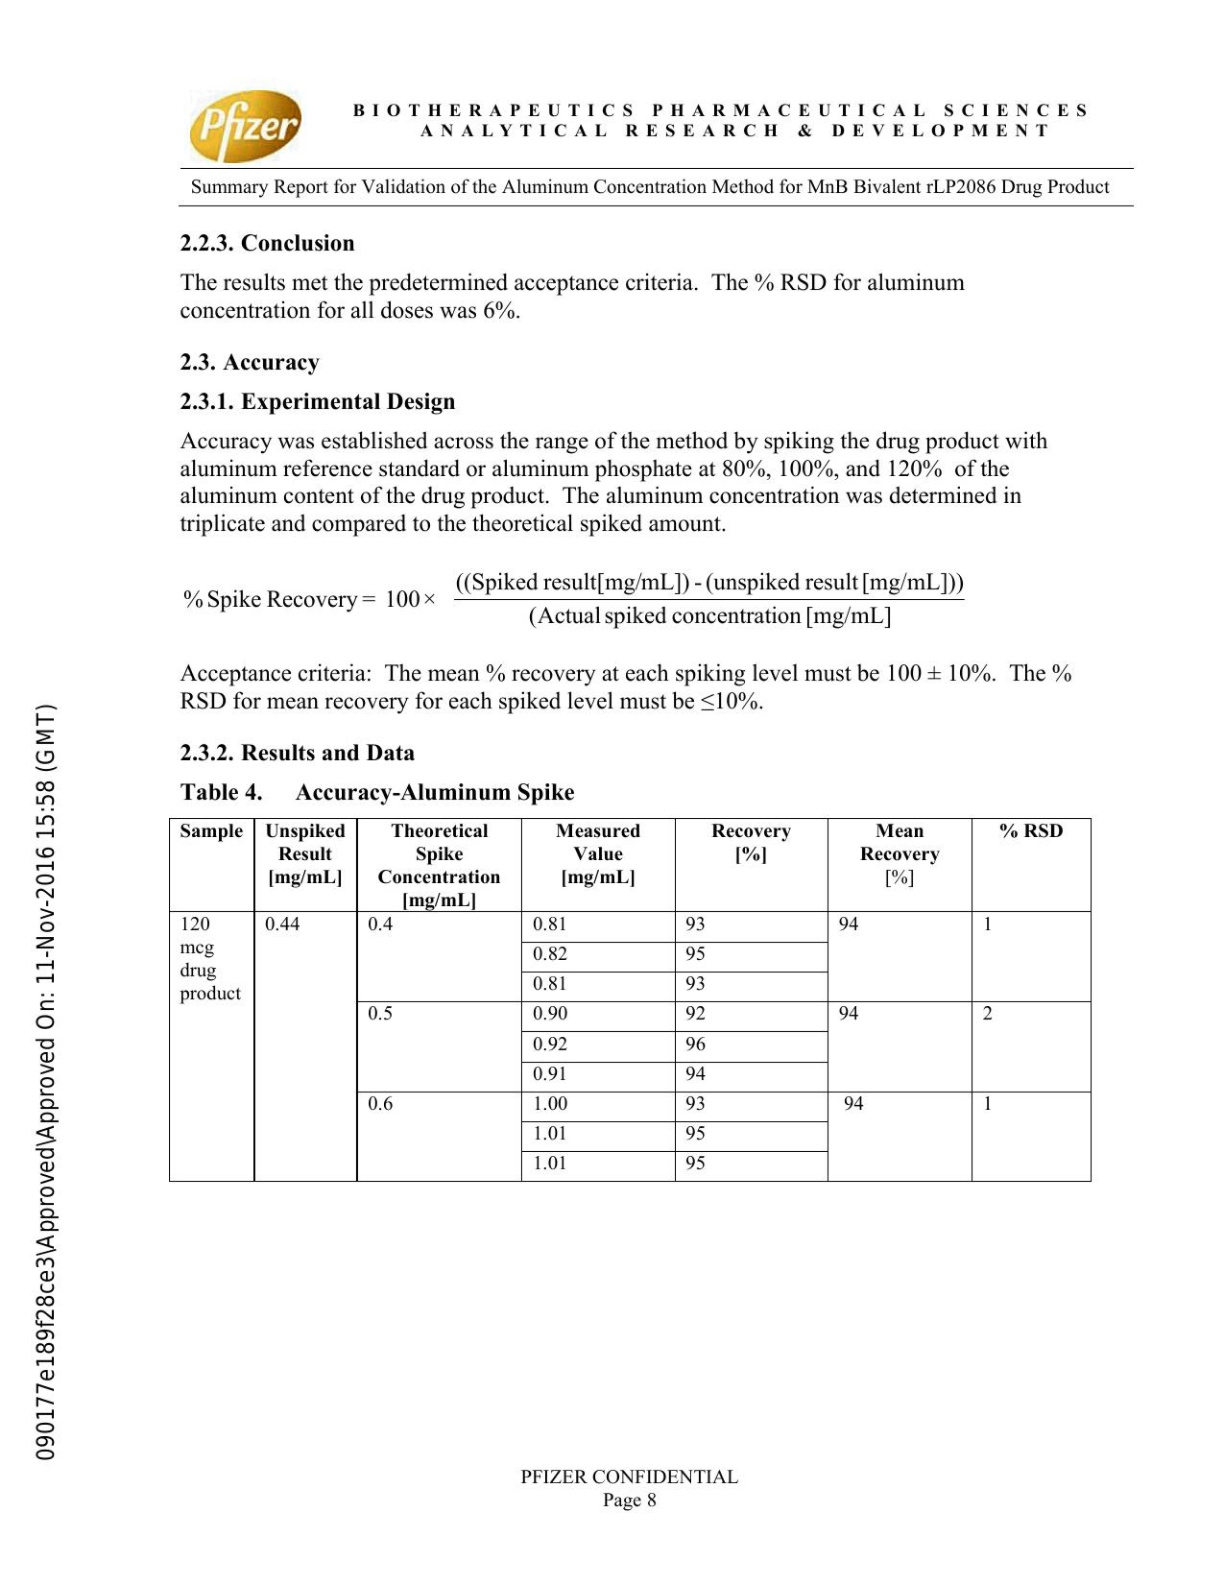merged_cells: (167, 818, 1093, 1183)
